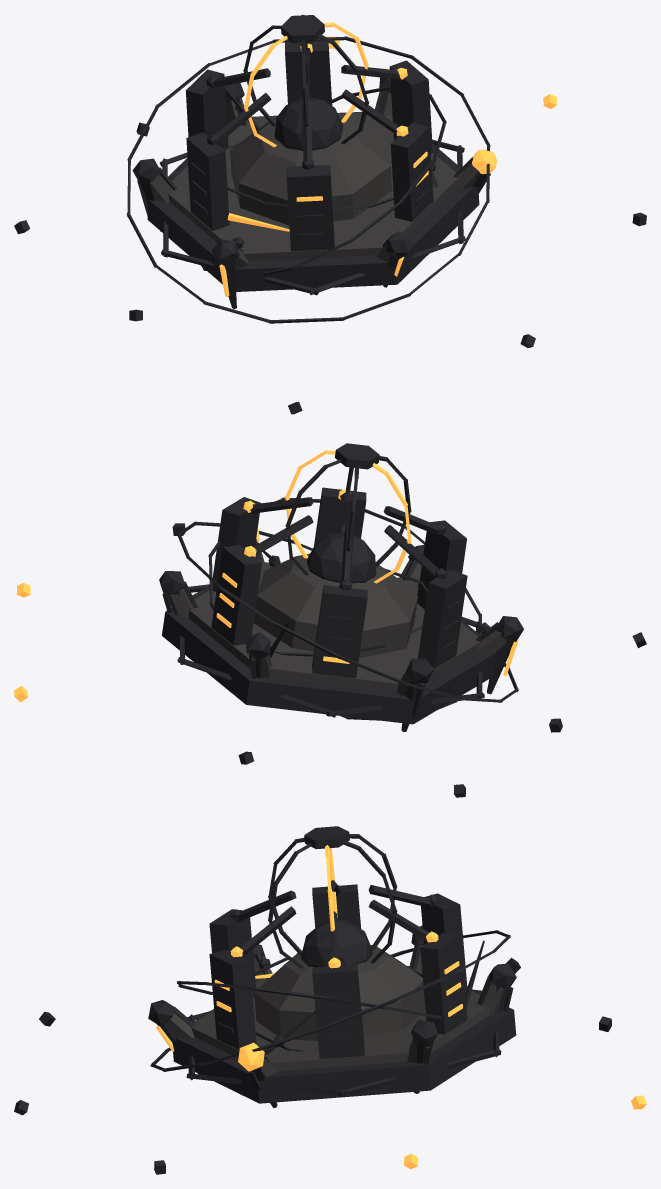
Rendered from Wreck_NetrunnerHive.fbx.
The picture shows the model from 3 angles, top to bottom: view 1: azimuth 30°, elevation 25°; view 2: azimuth 150°, elevation 25°; view 3: azimuth 270°, elevation 25°; orthographic projection. The views are drawn at different scales.
Parts seen in each view (by area): view 1: Wreck_NetrunnerHive; view 2: Wreck_NetrunnerHive; view 3: Wreck_NetrunnerHive.
Part boxes in pixels (box(x1,y1,x2,y2)): Wreck_NetrunnerHive: box(14, 14, 646, 414); Wreck_NetrunnerHive: box(14, 443, 646, 797); Wreck_NetrunnerHive: box(14, 826, 646, 1174).
Bounding box in the file's own units: 1.3 × 0.6534 × 1.4.
